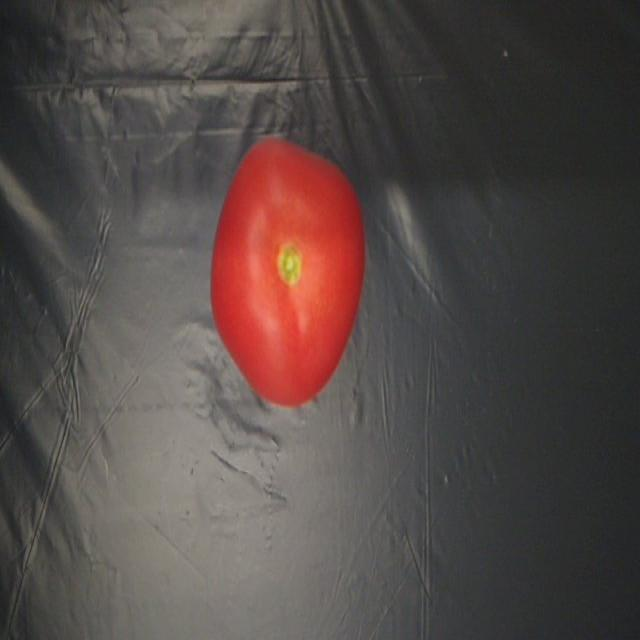kirmizi: (190, 137, 374, 398)
